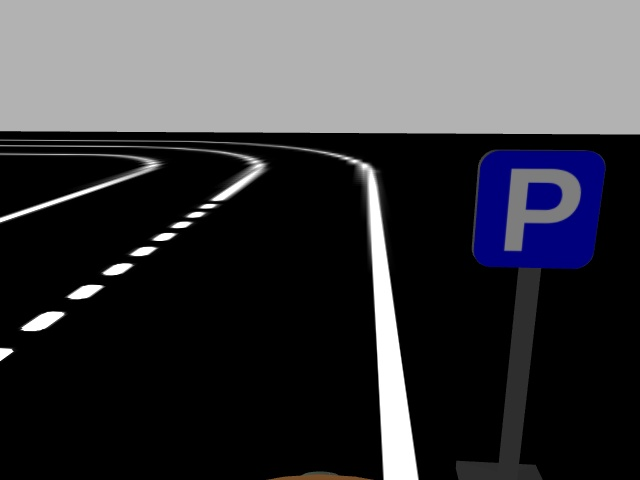parking: (471, 147, 607, 271)
